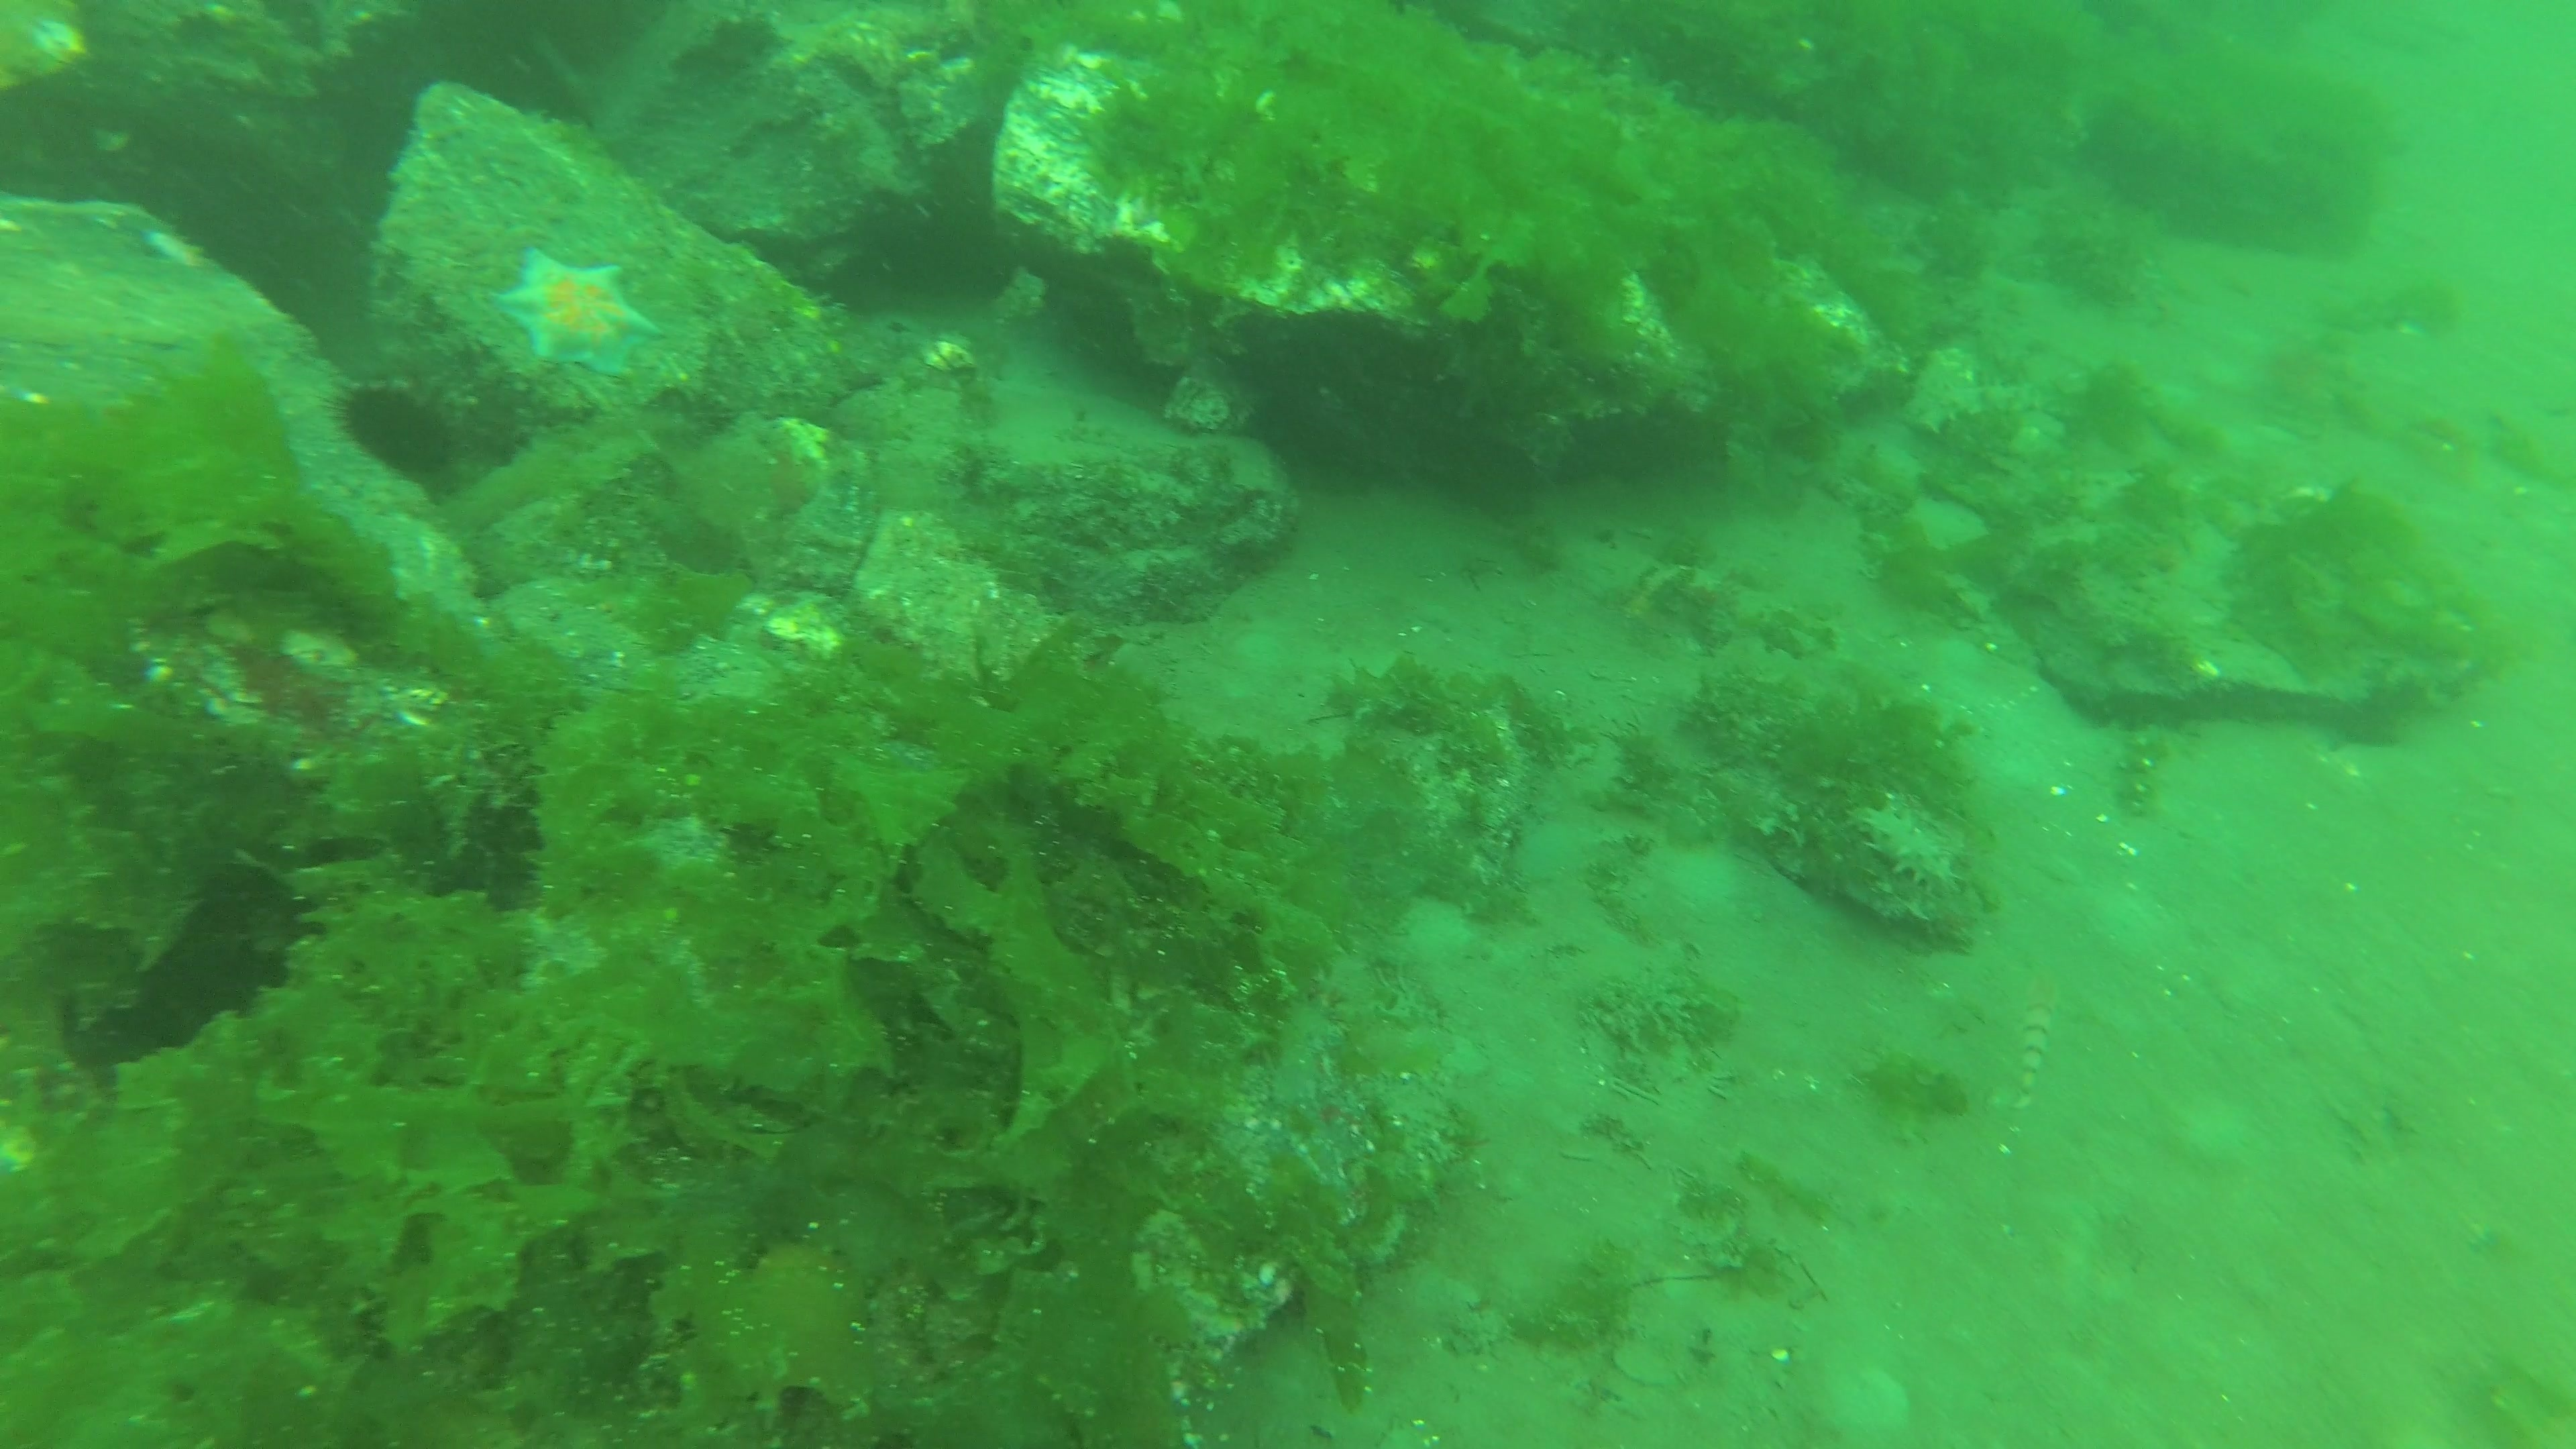echinus: (322, 379, 462, 487)
holothurian: (1840, 794, 1966, 908)
starfish: (483, 244, 663, 379)
